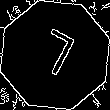L_SW: (29, 25, 81, 85)
